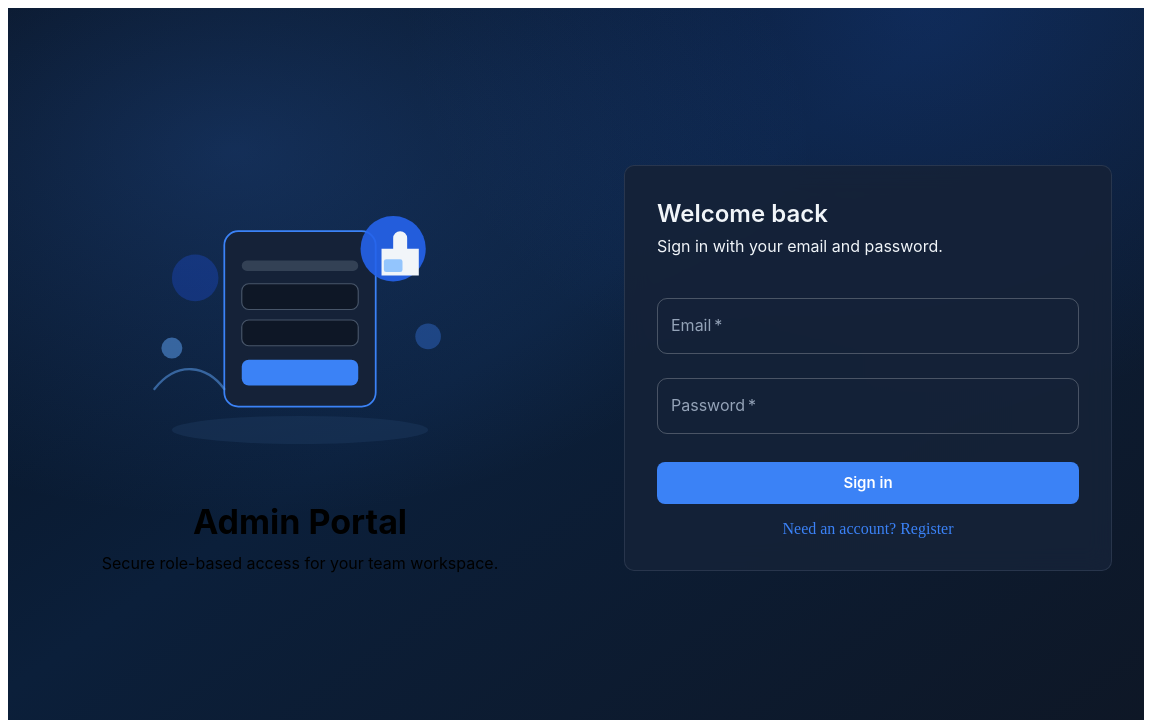
Test case: LoginPage › shows a cleaned Firebase error
In the field labelled "Email *": [868, 326] box [657,298,1079,354], type "ada@example.com"
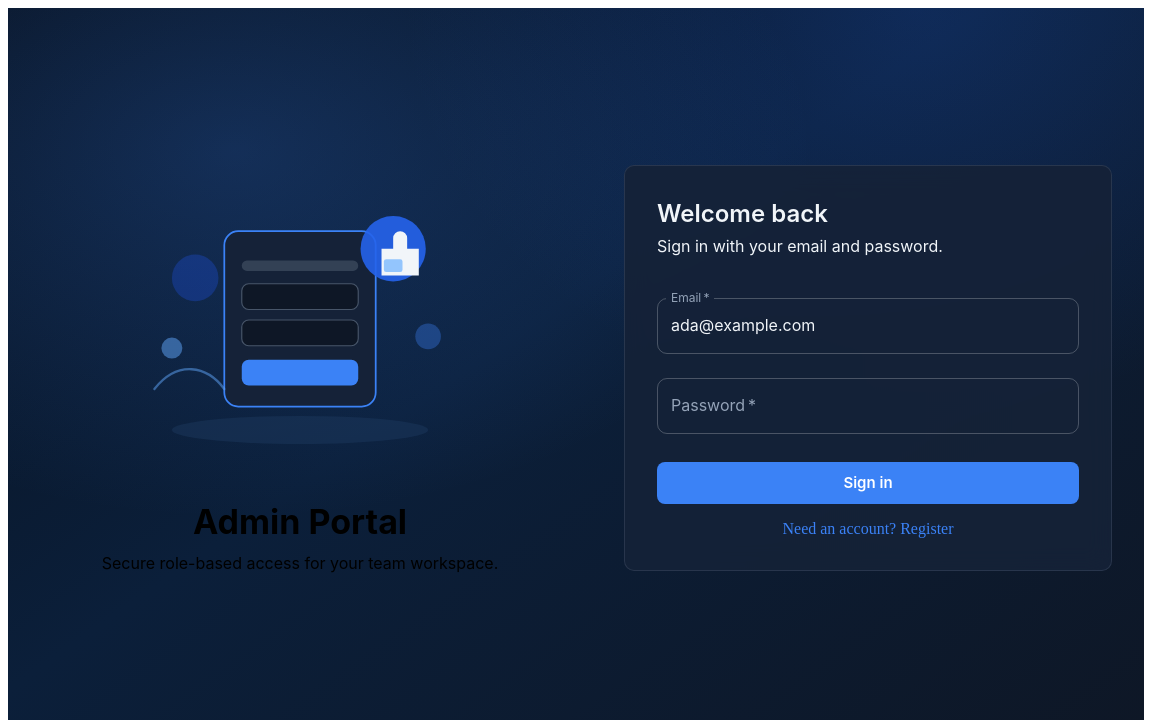
In the password field labelled "Password *": [868, 406] box [657,378,1079,434], type "secret"
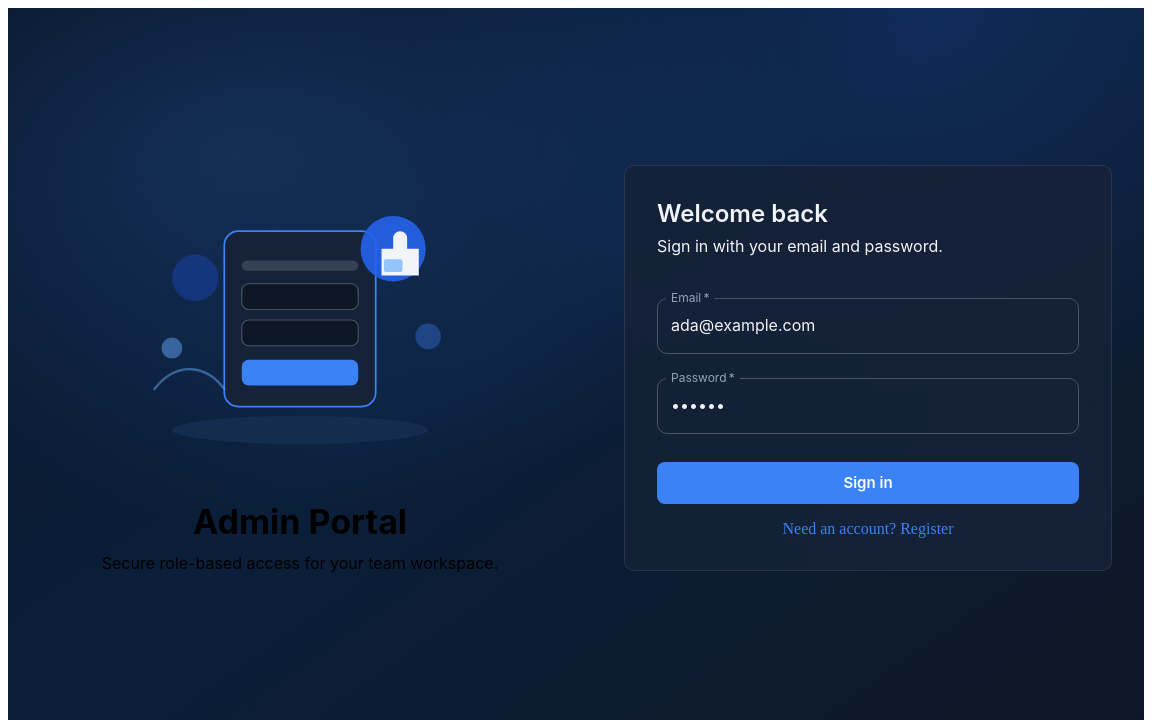
Click the button "Sign in": [868, 483] box [657,462,1079,504]
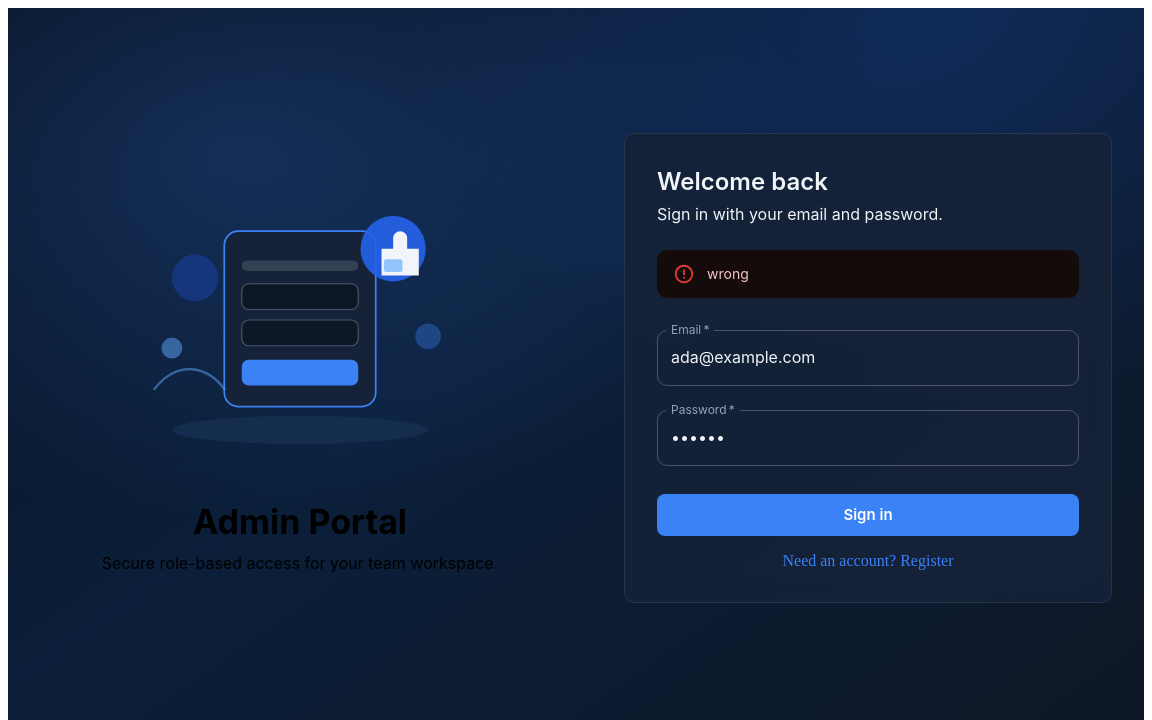
Expected: the text "wrong" is shown, [707,265,749,282]
